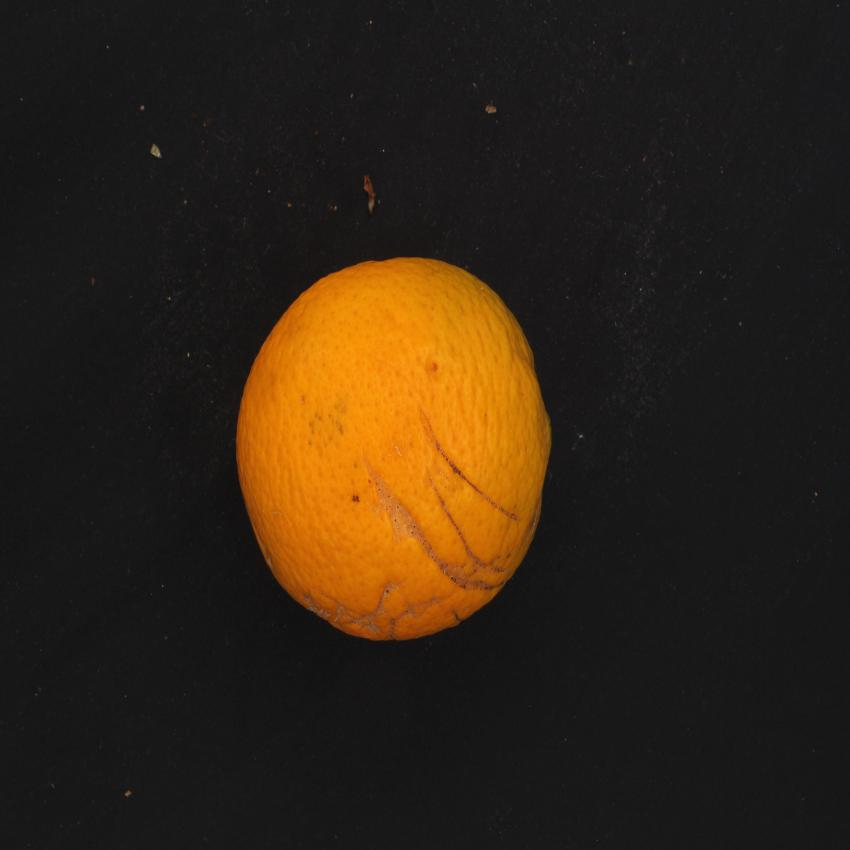Buen estado: (224, 247, 562, 657)
